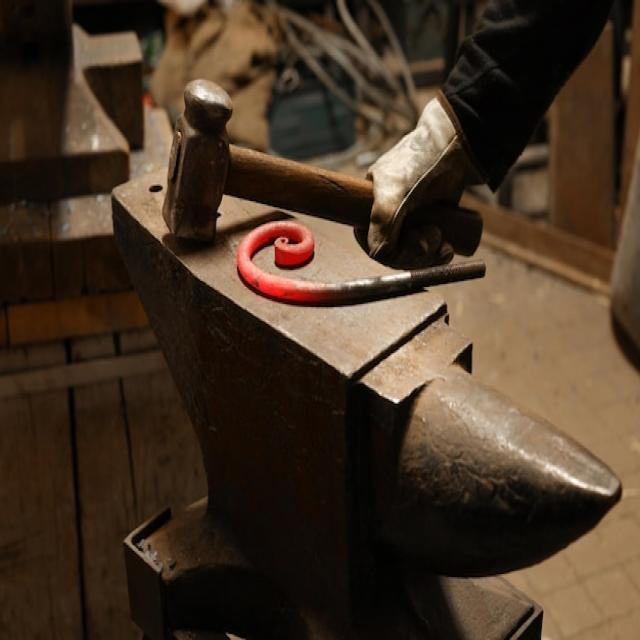hammer: (155, 73, 490, 274)
